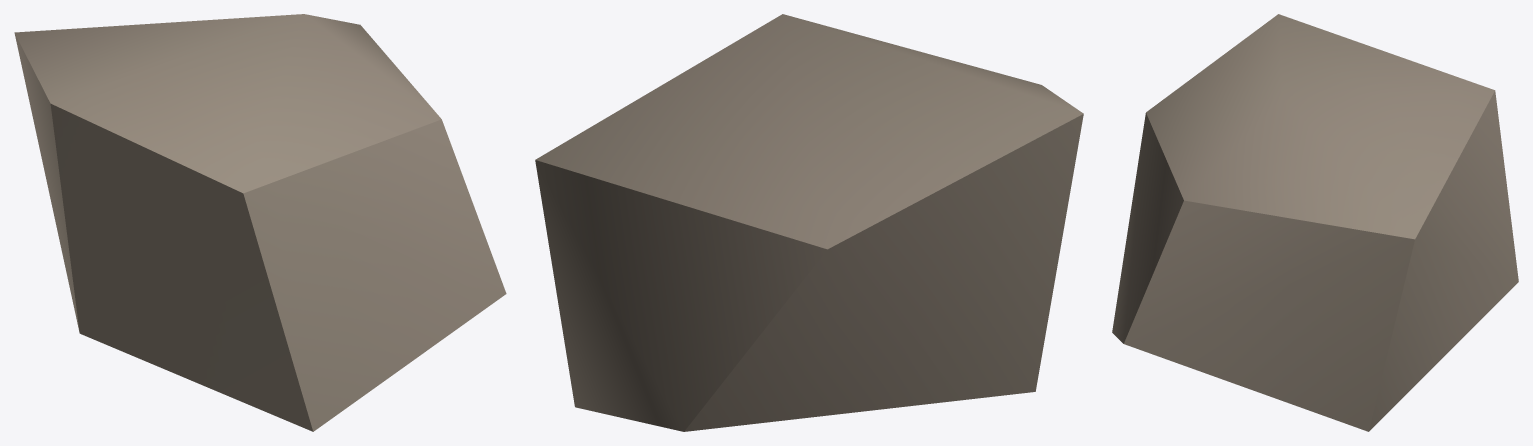
Rendered from FX_stone_B.glb.
The picture shows the model from 3 angles, left to right: view 1: azimuth 30°, elevation 25°; view 2: azimuth 150°, elevation 25°; view 3: azimuth 270°, elevation 25°; orthographic projection. The views are drawn at different scales.
Parts seen in each view (by area): view 1: FX_stone_B; view 2: FX_stone_B; view 3: FX_stone_B.
Boxes of the visible parts, x1=… form: FX_stone_B: x1=14, y1=14, x2=506, y2=431; FX_stone_B: x1=535, y1=14, x2=1083, y2=431; FX_stone_B: x1=1112, y1=14, x2=1518, y2=431.
Bounding box in the file's own units: 0.6295 × 0.511 × 0.671.
1 material, 1 textured.
